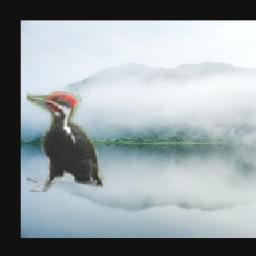Woodpecker: (26, 87, 104, 193)
